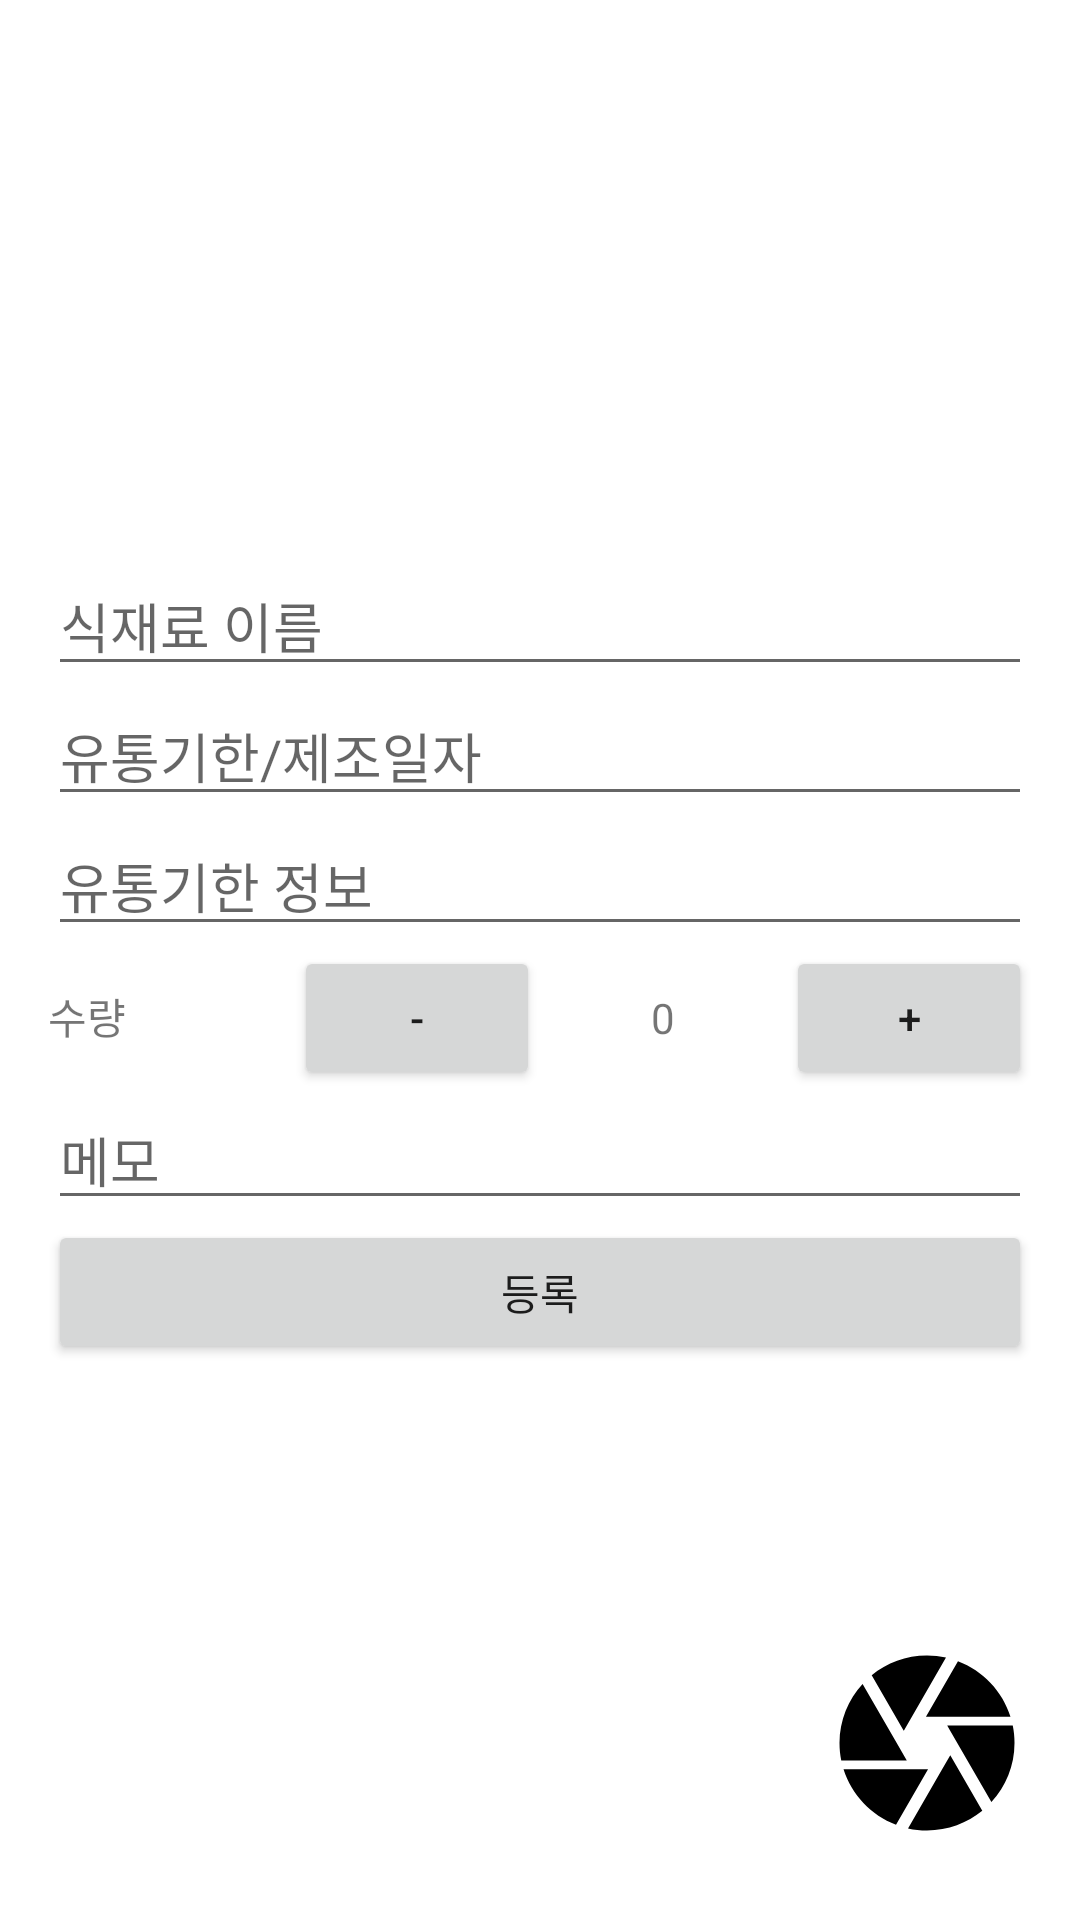

Named icons in this screenshot (1080×1920) and their bounding boxes, (x1, y1, x2, y2):
camera: (839, 1655, 1015, 1831)
